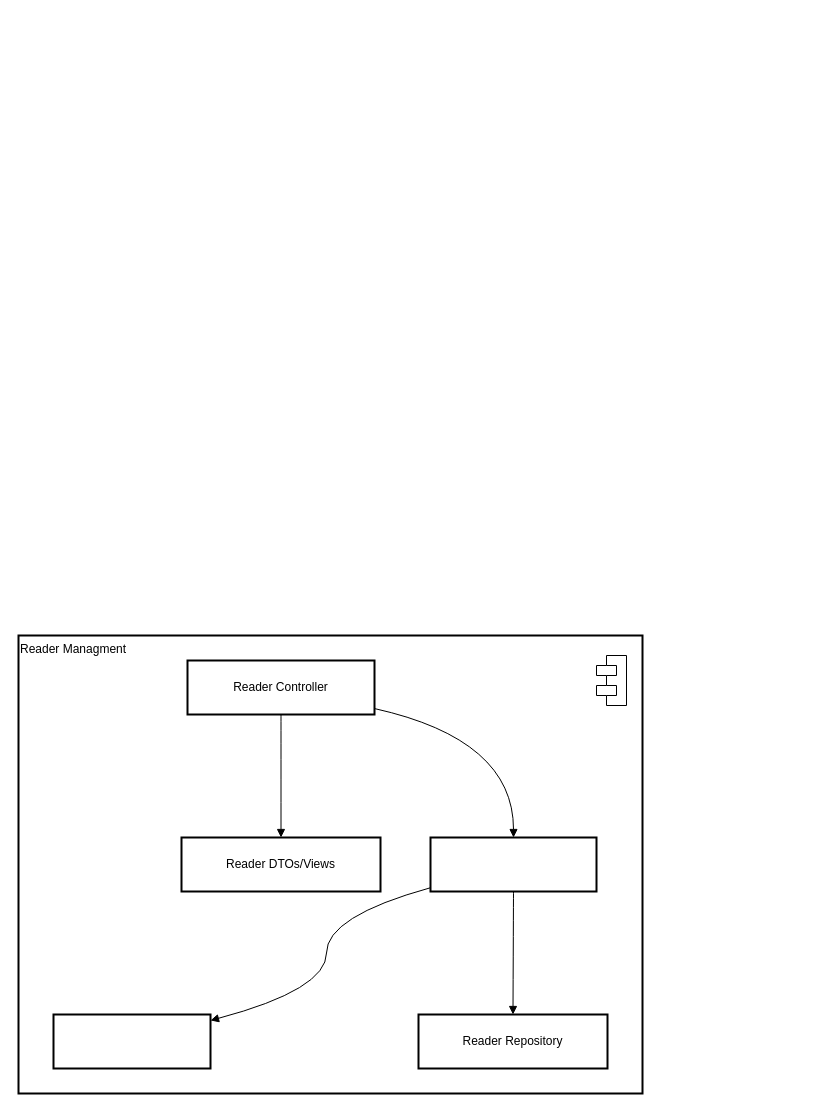
The diagram is 825 pixels wide and 1112 high, and some of its shapes have lost their labels. Here are the shapes that lost their labels. From the top down, the centre of each, then its label:
point (513, 864): Reader Service
point (131, 1041): Reader Entity
